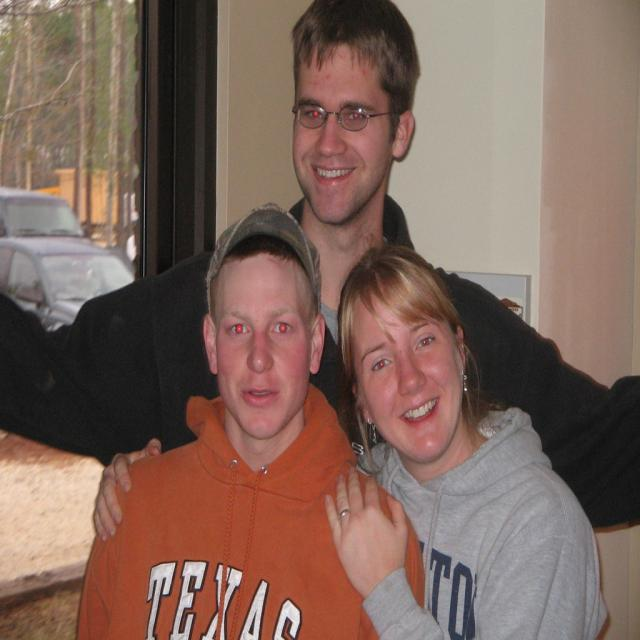Glasses: (292, 103, 394, 131)
